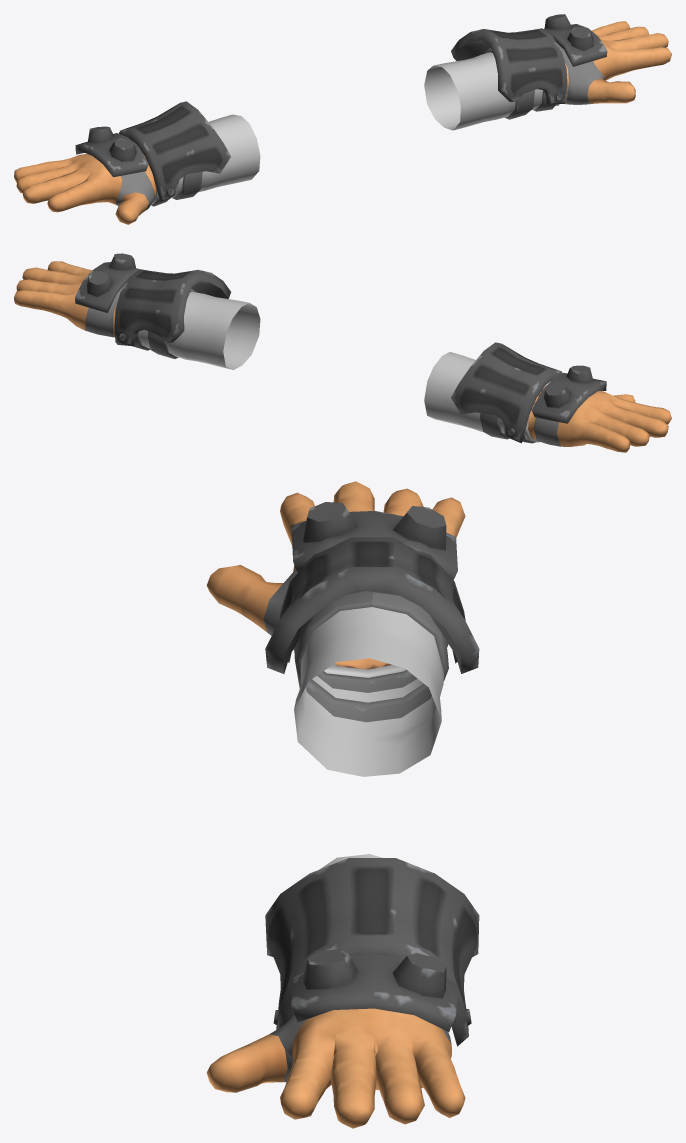
3 renders of one model, top to bottom at view 1: azimuth 30°, elevation 25°; view 2: azimuth 150°, elevation 25°; view 3: azimuth 270°, elevation 25°, orthographic. The views are drawn at different scales.
Parts seen in each view (by area): view 1: model_0_submesh_0, model_0_submesh_2, model_0_submesh_1; view 2: model_0_submesh_0, model_0_submesh_2, model_0_submesh_1; view 3: model_0_submesh_0, model_0_submesh_2, model_0_submesh_1.
Part boxes in pixels (box(x1,y1,x2,y2)): model_0_submesh_0: box(75, 14, 607, 210); model_0_submesh_2: box(14, 21, 671, 224); model_0_submesh_1: box(133, 52, 559, 204); model_0_submesh_0: box(75, 253, 606, 446); model_0_submesh_2: box(14, 261, 671, 452); model_0_submesh_1: box(139, 292, 550, 442); model_0_submesh_0: box(263, 502, 479, 1082); model_0_submesh_2: box(206, 481, 465, 1128); model_0_submesh_1: box(294, 607, 443, 869).
Bounding box in the file's own units: 3.6 × 0.4501 × 0.6601.
